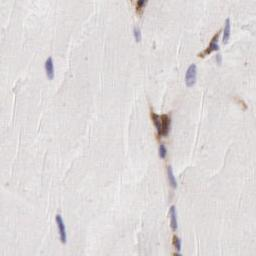nucleus: (54, 214, 67, 243), (185, 63, 197, 85), (168, 205, 178, 230), (166, 166, 177, 188), (223, 18, 232, 42), (46, 56, 55, 79), (133, 26, 141, 41), (159, 145, 166, 158), (212, 42, 220, 50), (176, 239, 181, 248), (156, 124, 160, 131), (141, 1, 146, 6)
positive_cell: (200, 29, 222, 57), (149, 106, 161, 141), (162, 115, 171, 137), (133, 1, 148, 14), (173, 234, 180, 251)
